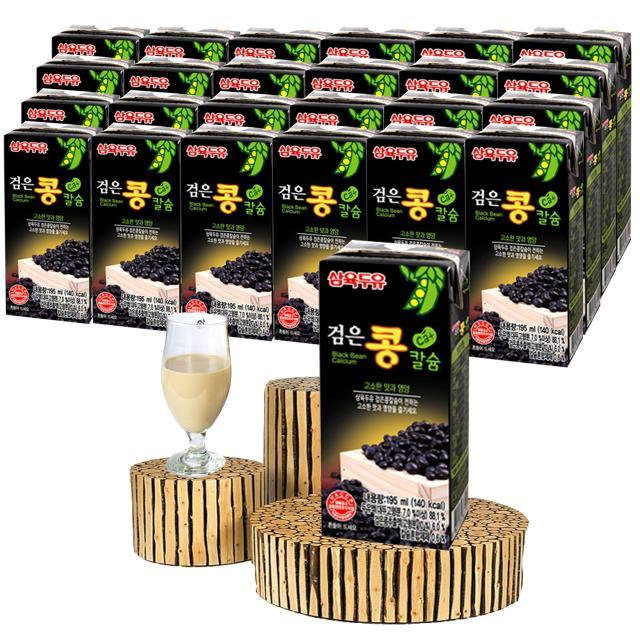Tetra: (308, 237, 480, 548), (461, 128, 589, 383), (274, 115, 384, 341), (94, 122, 196, 334), (185, 122, 282, 342), (370, 123, 482, 306), (4, 95, 92, 313), (0, 145, 91, 330)
